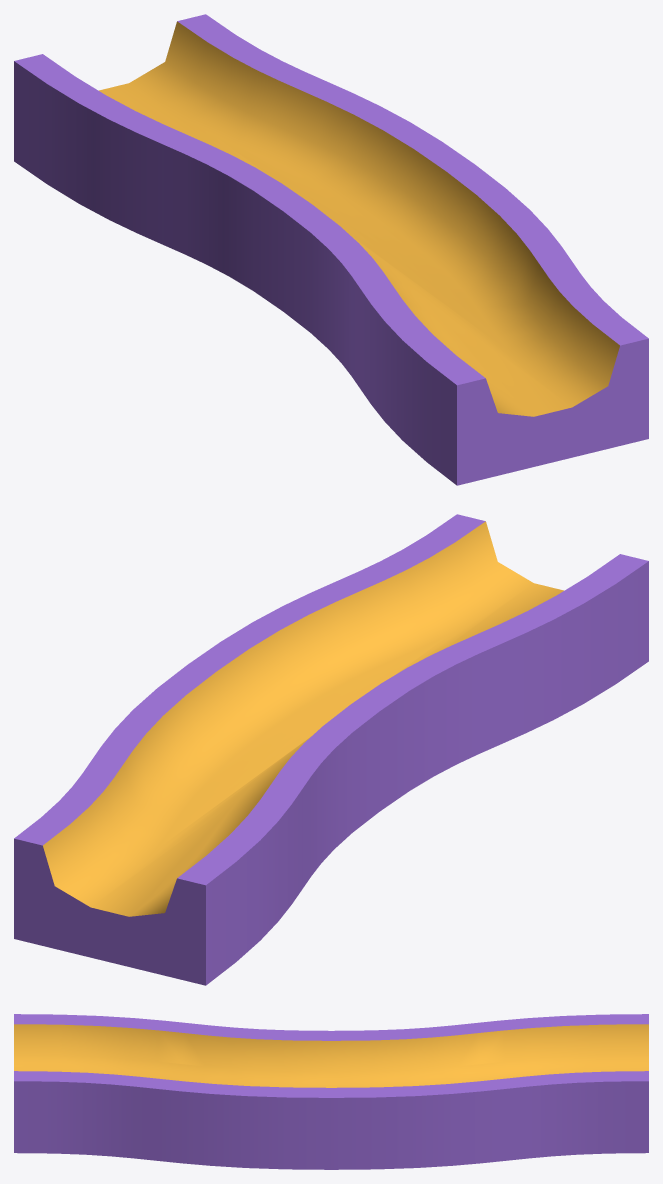
File: kenney-marble-wave-a.glb
3 views of the same model, one above another, from view 1: azimuth 30°, elevation 25°; view 2: azimuth 150°, elevation 25°; view 3: azimuth 270°, elevation 25° (orthographic). The views are drawn at different scales.
Parts seen in each view (by area): view 1: wave-a; view 2: wave-a; view 3: wave-a.
Part boxes in pixels (box(x1,y1,x2,y2)): wave-a: box(14, 14, 648, 485); wave-a: box(14, 514, 648, 985); wave-a: box(14, 1014, 648, 1169).
Bounding box in the file's own units: 1.25 × 0.5 × 4.
Materials: 1 (1 with a texture image).
